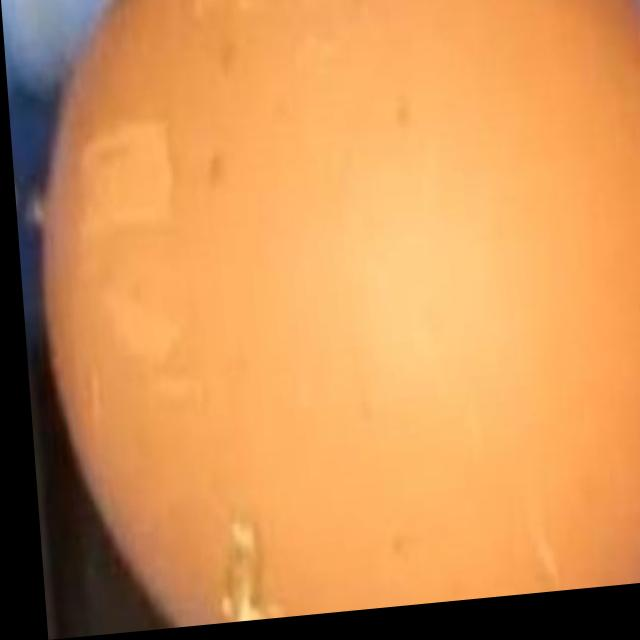unfresh: (35, 0, 640, 637)
